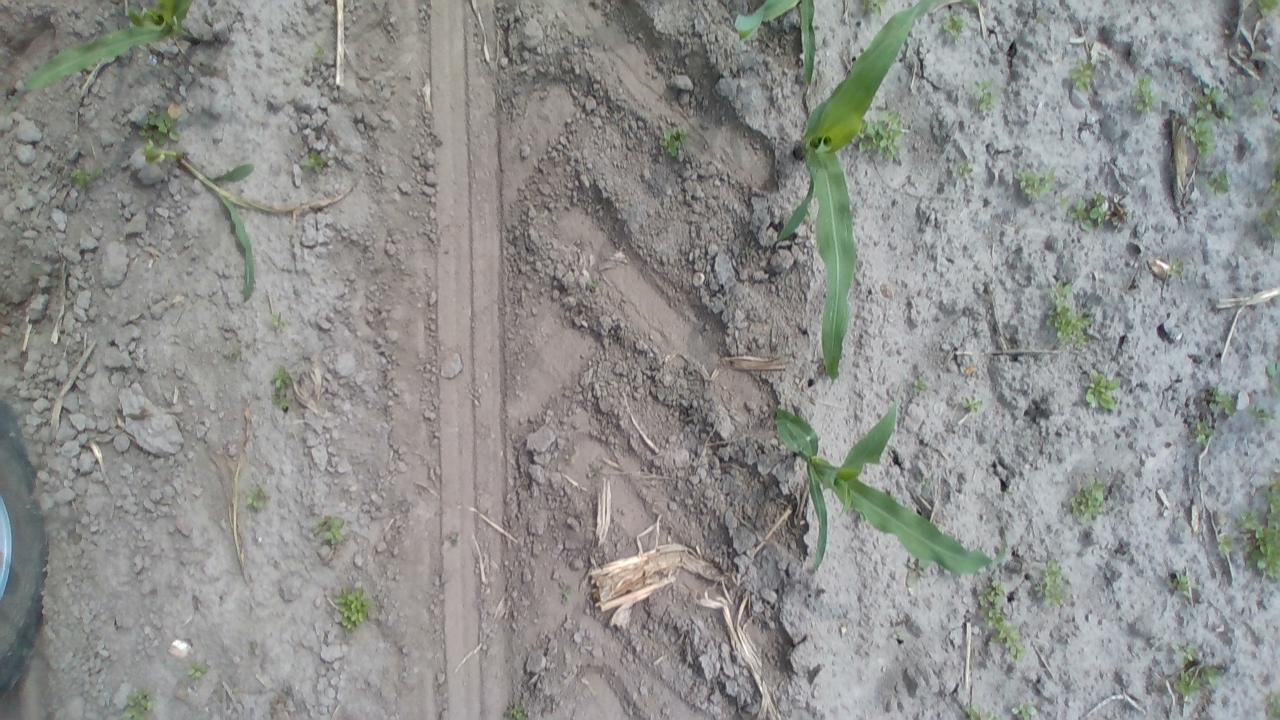Maize: (771, 0, 972, 395), (770, 402, 1009, 584), (132, 142, 290, 306), (4, 0, 212, 109), (731, 0, 820, 92)
Weeds: (1227, 490, 1280, 584), (976, 578, 1030, 667), (1182, 84, 1234, 164), (1170, 644, 1226, 704), (1045, 280, 1092, 346), (859, 109, 906, 165), (138, 98, 181, 142), (1066, 477, 1108, 522), (335, 586, 372, 634), (1071, 191, 1114, 231), (1084, 368, 1122, 413), (1035, 558, 1071, 605), (1014, 166, 1056, 202), (270, 364, 296, 412), (1128, 78, 1161, 115), (1204, 386, 1240, 419), (971, 76, 1000, 115), (314, 514, 348, 547), (1067, 59, 1100, 92), (120, 688, 156, 718), (658, 125, 688, 160), (65, 168, 104, 190), (939, 11, 968, 40), (1167, 570, 1197, 598), (243, 483, 270, 512), (1190, 416, 1216, 445), (1202, 171, 1232, 195), (1258, 207, 1276, 245), (961, 702, 998, 719), (958, 392, 986, 414), (305, 150, 330, 174), (1251, 403, 1276, 426), (1166, 256, 1188, 280), (860, 0, 889, 18), (1010, 701, 1039, 719), (502, 701, 530, 718), (185, 661, 208, 681), (1248, 93, 1268, 116), (442, 528, 464, 548), (1216, 530, 1232, 557), (1264, 360, 1276, 395), (1262, 690, 1276, 720), (952, 158, 971, 180), (910, 374, 929, 395), (558, 579, 576, 601), (1253, 0, 1277, 16), (269, 311, 288, 331), (1266, 167, 1276, 200), (1055, 193, 1070, 212), (312, 40, 326, 60), (919, 474, 934, 490)
